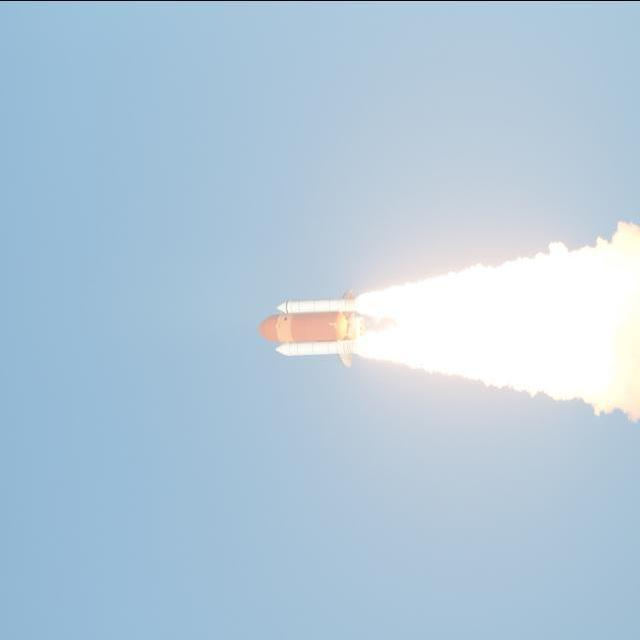Missile: (267, 296, 354, 314), (273, 338, 353, 356)
